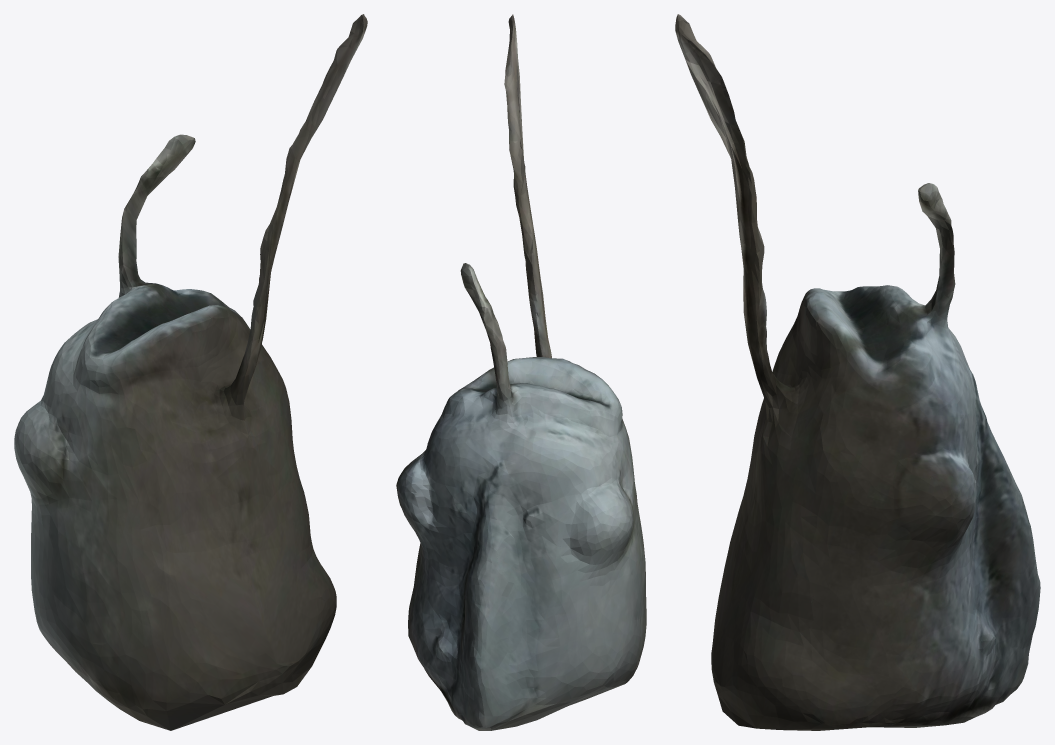
File: Poisson2.glb
The picture shows the model from 3 angles, left to right: view 1: azimuth 30°, elevation 25°; view 2: azimuth 150°, elevation 25°; view 3: azimuth 270°, elevation 25°; orthographic projection. The views are drawn at different scales.
Bounding box in the file's own units: 0.1791 × 0.4537 × 0.1987.
Materials: 1 (1 with a texture image).
